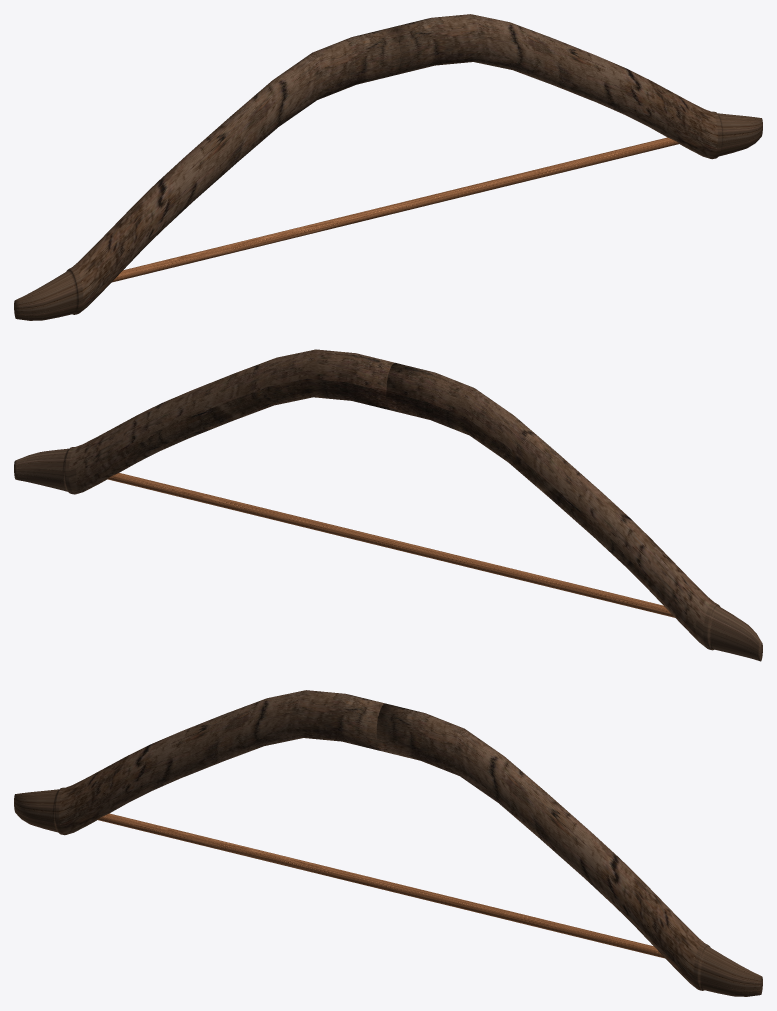
Rendered from arco.FBX.
The picture shows the model from 3 angles, top to bottom: view 1: azimuth 30°, elevation 25°; view 2: azimuth 150°, elevation 25°; view 3: azimuth 330°, elevation 25°; orthographic projection.
Visible parts, largest first — view 1: Cylinder002, Cylinder003; view 2: Cylinder002, Cylinder003; view 3: Cylinder002, Cylinder003.
Boxes of the visible parts, bbox=[...] form: Cylinder002: bbox=[14, 14, 762, 320]; Cylinder003: bbox=[111, 137, 679, 282]; Cylinder002: bbox=[14, 349, 762, 661]; Cylinder003: bbox=[107, 473, 674, 617]; Cylinder002: bbox=[14, 690, 762, 996]; Cylinder003: bbox=[97, 813, 665, 958].
Bounding box in the file's own units: 3.7 × 0.9849 × 0.1244.
Materials: 2 (2 with a texture image).
